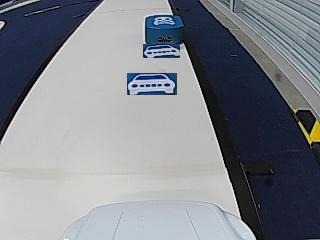danger: (153, 16, 176, 26)
